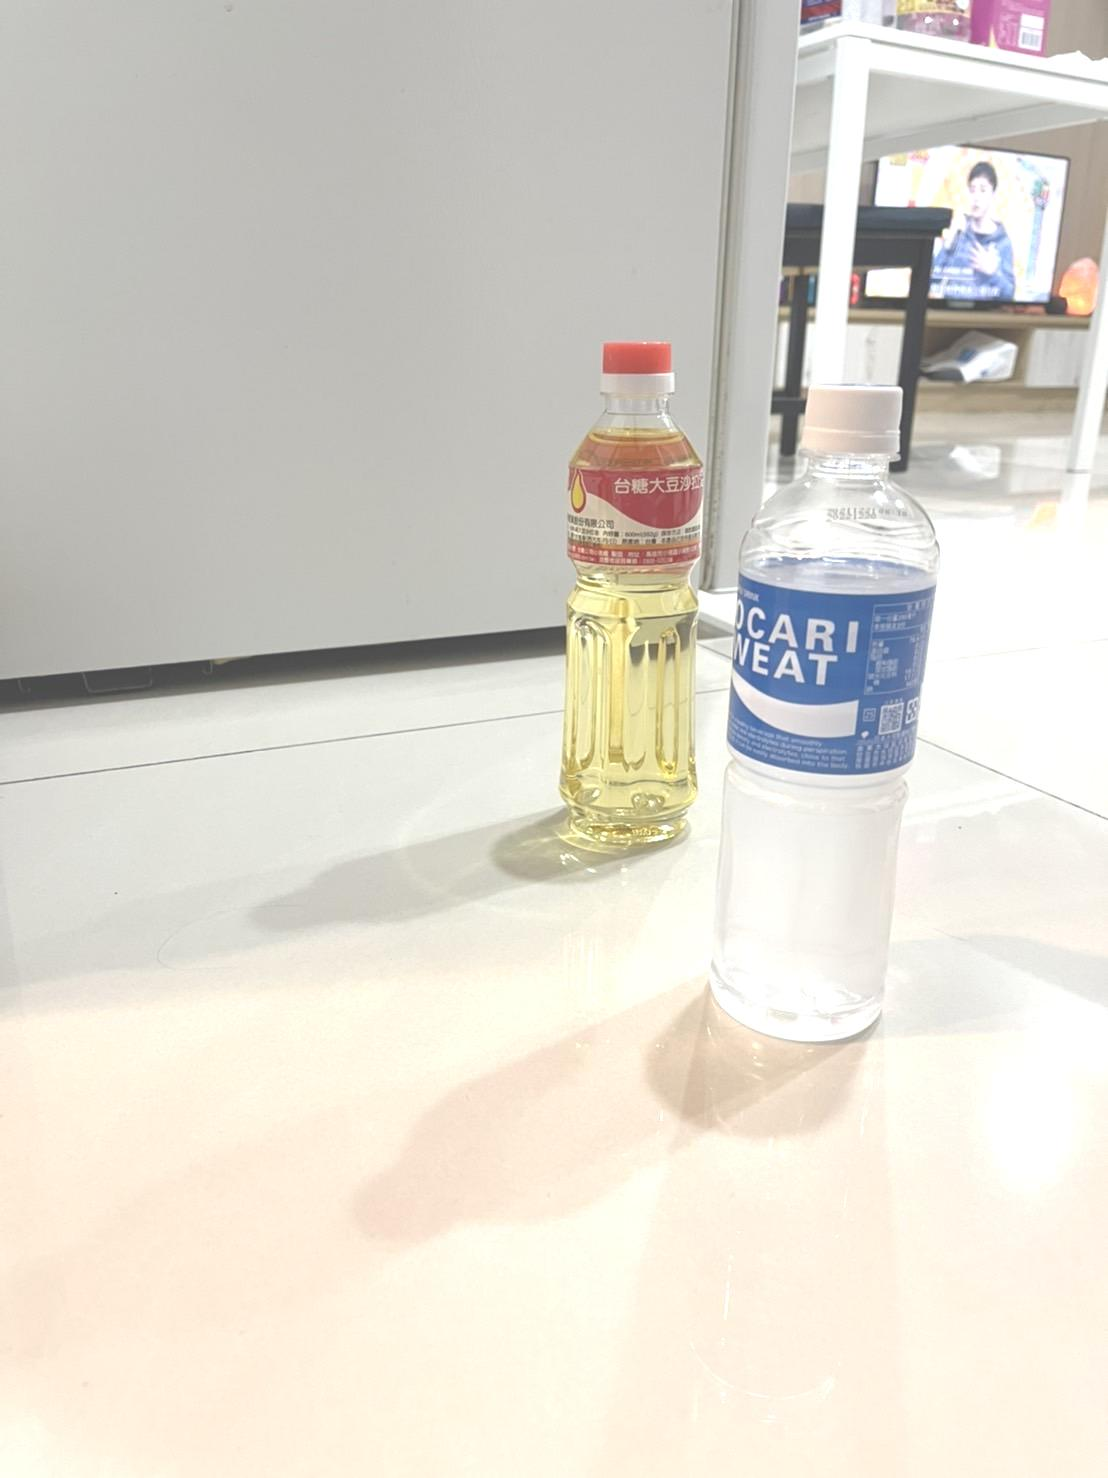bottle: (681, 364, 951, 1060), (551, 325, 717, 872)
